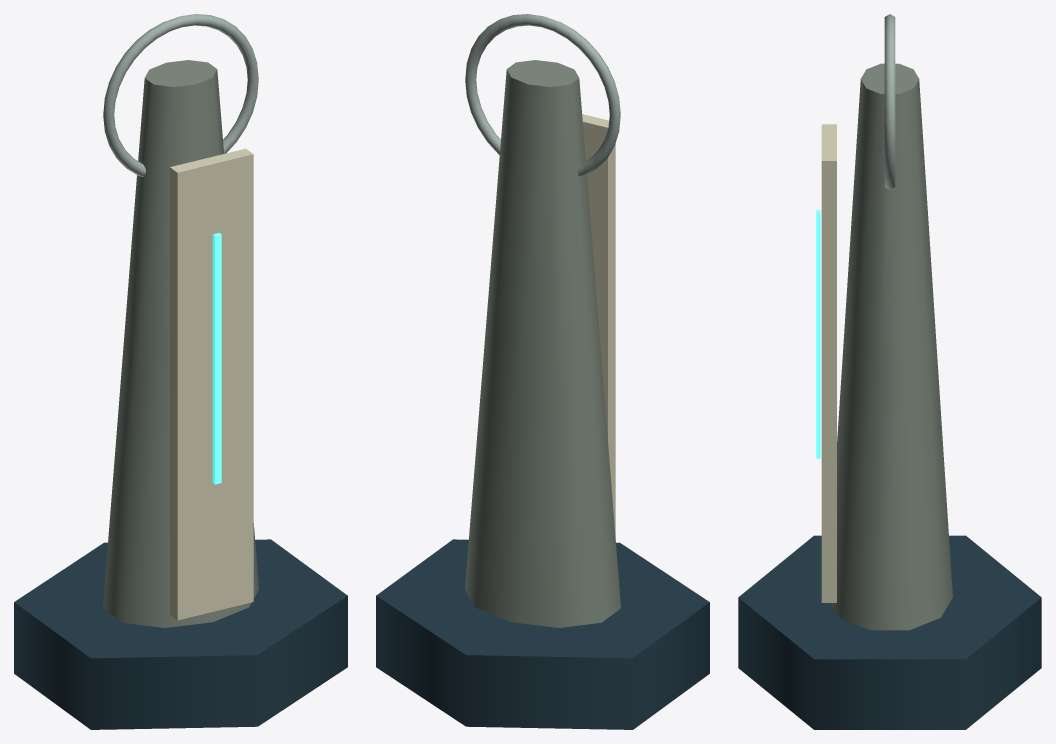
Rendered from survey-monolith.glb.
3 renders of one model, left to right at view 1: azimuth 30°, elevation 25°; view 2: azimuth 150°, elevation 25°; view 3: azimuth 270°, elevation 25°, orthographic.
Parts seen in each view (by area): view 1: Vesper / survey-monolith; view 2: Vesper / survey-monolith; view 3: Vesper / survey-monolith.
Boxes of the visible parts, <box> form: Vesper / survey-monolith: <box>14,14,347,729</box>; Vesper / survey-monolith: <box>376,14,709,729</box>; Vesper / survey-monolith: <box>738,14,1041,729</box>.
Size of the model in its own units: 1.35 by 3.29 by 1.4.
